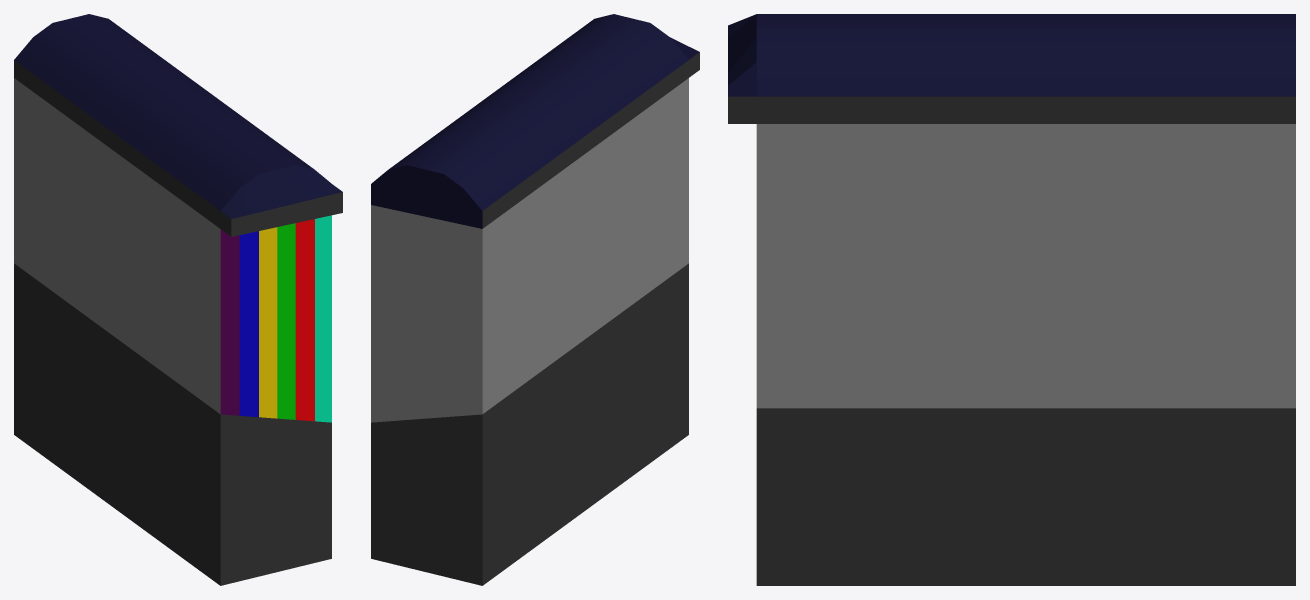
File: MOD_InterBatA.FBX
3 views of the same model, side by side, from view 1: azimuth 30°, elevation 25°; view 2: azimuth 150°, elevation 25°; view 3: azimuth 270°, elevation 25° (orthographic). The views are drawn at different scales.
Parts seen in each view (by area): view 1: inter batiment 003; view 2: inter batiment 003; view 3: inter batiment 003.
Part boxes in pixels (x1,y1,x2,y2): inter batiment 003: [14, 14, 342, 585]; inter batiment 003: [371, 14, 699, 585]; inter batiment 003: [728, 14, 1295, 585].
Size of the model in its own units: 9.28 by 32 by 31.34.
